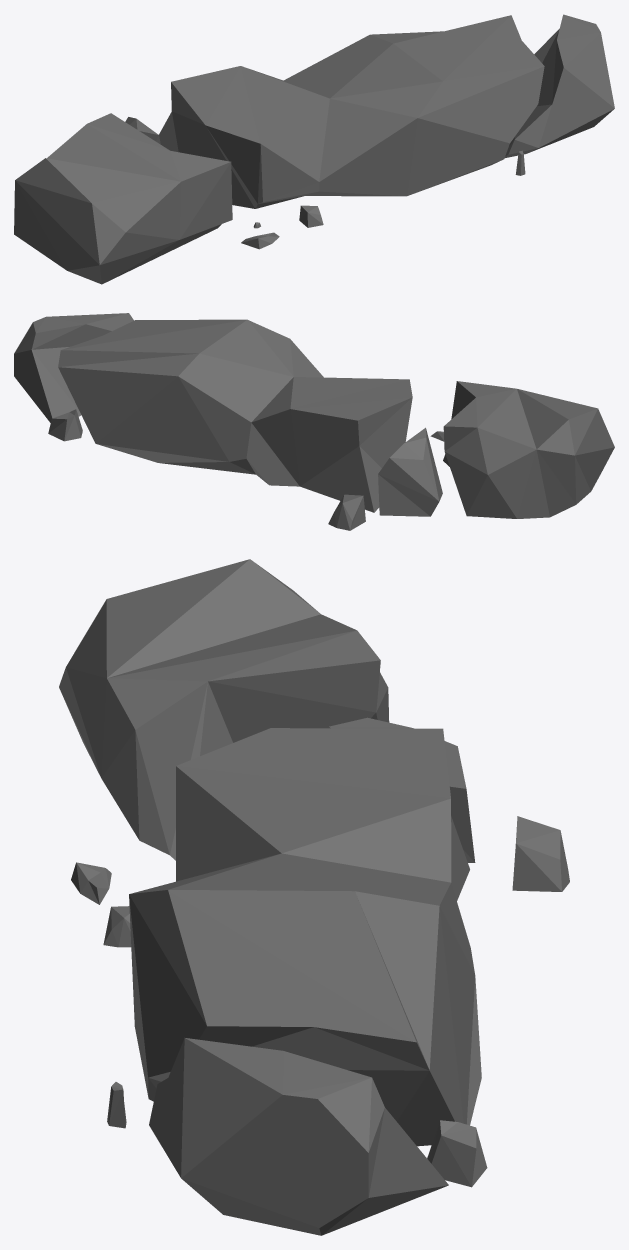
File: Stone_A_03.FBX
The picture shows the model from 3 angles, top to bottom: view 1: azimuth 30°, elevation 25°; view 2: azimuth 150°, elevation 25°; view 3: azimuth 270°, elevation 25°; orthographic projection. The views are drawn at different scales.
Parts seen in each view (by area): view 1: Stone_A_03; view 2: Stone_A_03; view 3: Stone_A_03.
Boxes of the visible parts, <box> form: Stone_A_03: <box>14,14,614,284</box>; Stone_A_03: <box>14,313,614,530</box>; Stone_A_03: <box>59,559,569,1235</box>.
Size of the model in its own units: 11.86 by 1.85 by 4.83.
